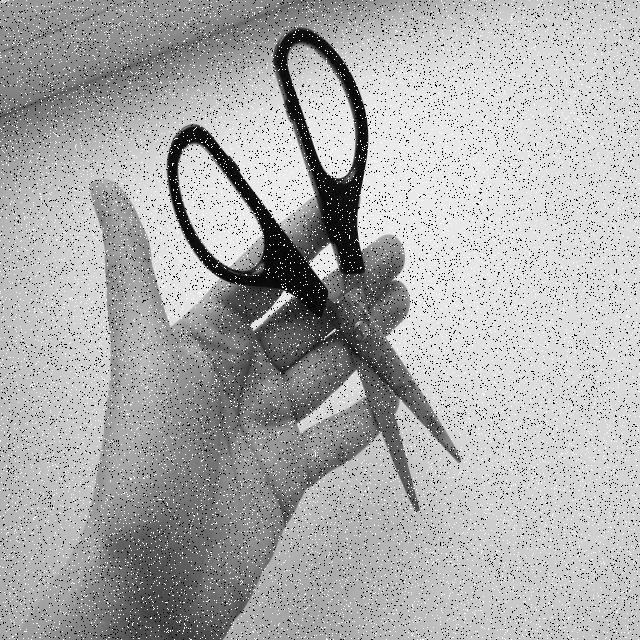scissors: (159, 16, 465, 520)
